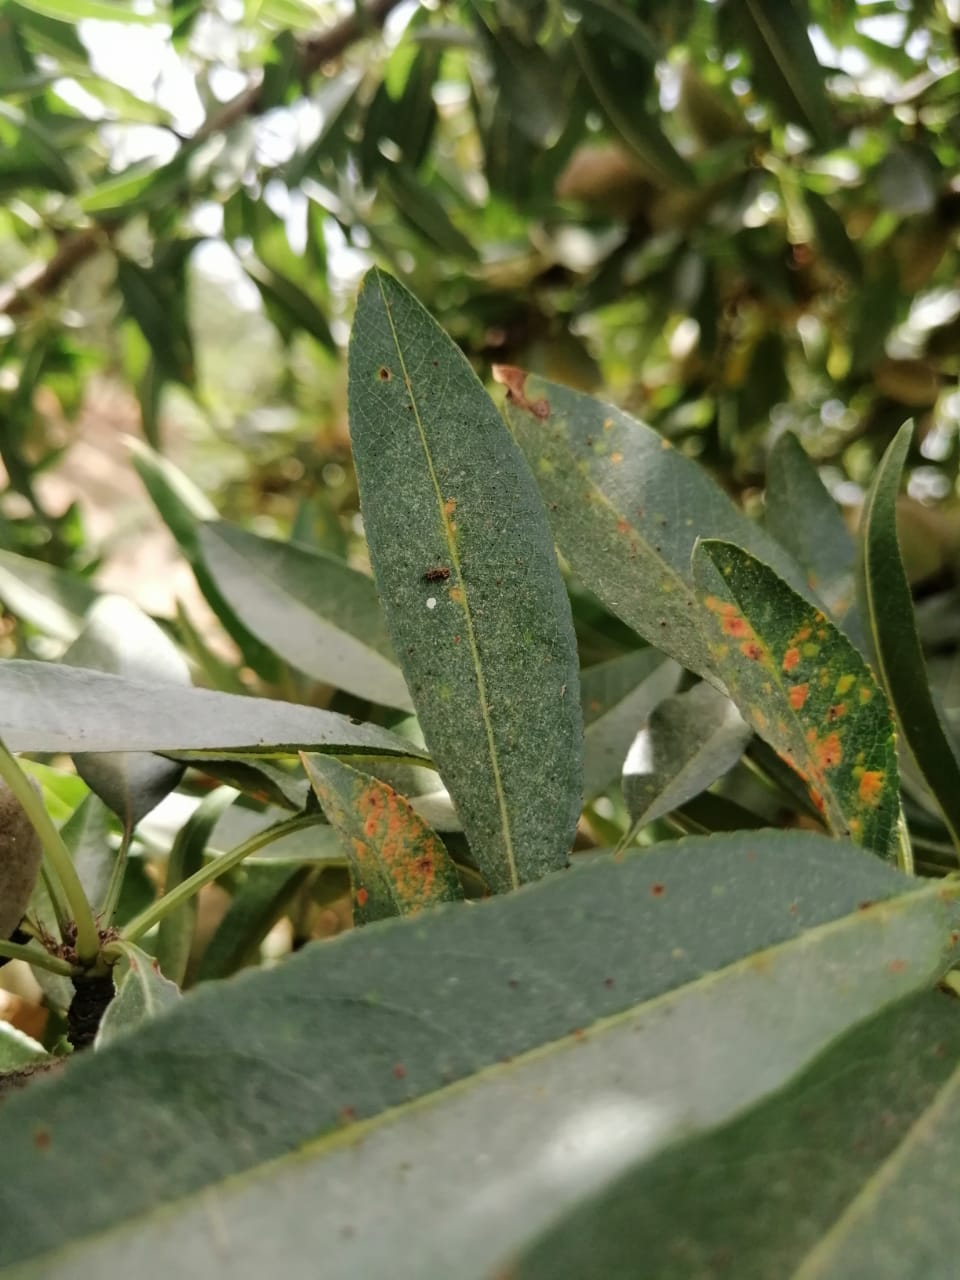acariens: (346, 263, 582, 890)
